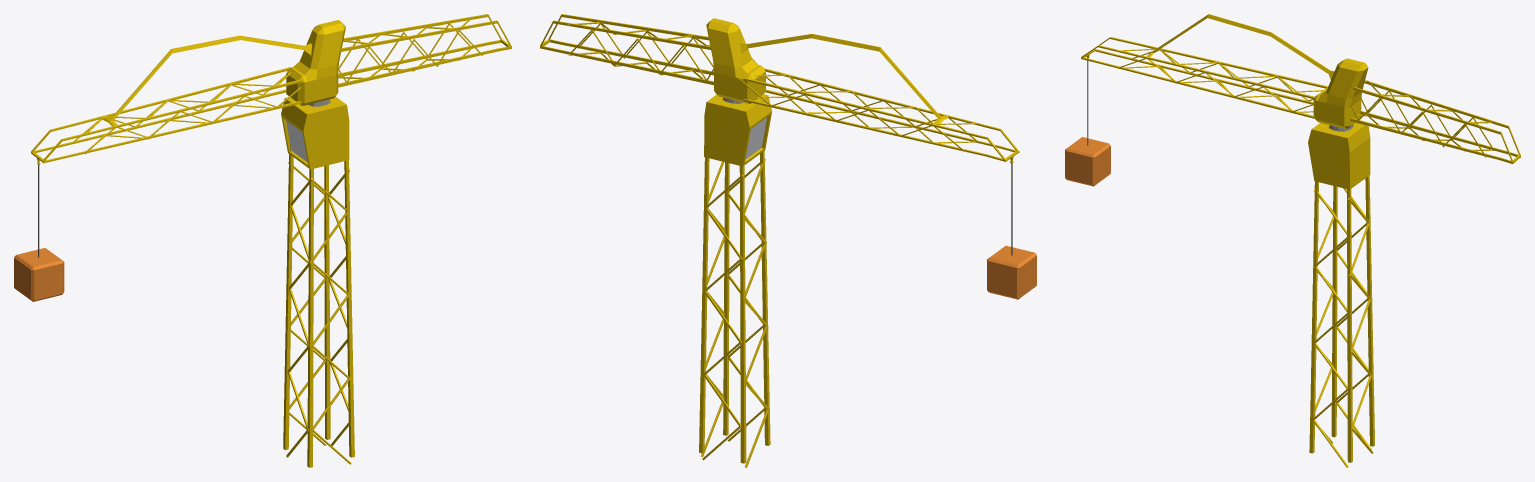
Rendered from Grue.fbx.
3 views of the same model, side by side, from view 1: azimuth 30°, elevation 25°; view 2: azimuth 150°, elevation 25°; view 3: azimuth 330°, elevation 25° (orthographic). The views are drawn at different scales.
Visible parts, largest first — view 1: grue1, grue2, grue4, cabine, grue3, bloque_chantier; view 2: grue1, grue2, grue4, cabine, grue3, bloque_chantier; view 3: grue1, grue2, grue3, grue4, cabine, bloque_chantier.
Boxes of the visible parts, x1=… form: grue1: x1=283, y1=144, x2=354, y2=467; grue2: x1=31, y1=67, x2=302, y2=164; grue4: x1=102, y1=20, x2=345, y2=126; cabine: x1=281, y1=96, x2=349, y2=169; grue3: x1=338, y1=14, x2=511, y2=87; bloque_chantier: x1=14, y1=248, x2=64, y2=301; grue1: x1=699, y1=141, x2=770, y2=467; grue2: x1=738, y1=68, x2=1019, y2=163; grue4: x1=706, y1=18, x2=948, y2=123; cabine: x1=704, y1=94, x2=772, y2=166; grue3: x1=540, y1=14, x2=713, y2=84; bloque_chantier: x1=987, y1=245, x2=1036, y2=299; grue1: x1=1309, y1=175, x2=1374, y2=467; grue2: x1=1081, y1=37, x2=1328, y2=118; grue3: x1=1350, y1=80, x2=1520, y2=163; grue4: x1=1147, y1=14, x2=1368, y2=128; cabine: x1=1308, y1=122, x2=1370, y2=189; bloque_chantier: x1=1065, y1=137, x2=1110, y2=186.
Size of the model in its own units: 4252 by 3730 by 407.
